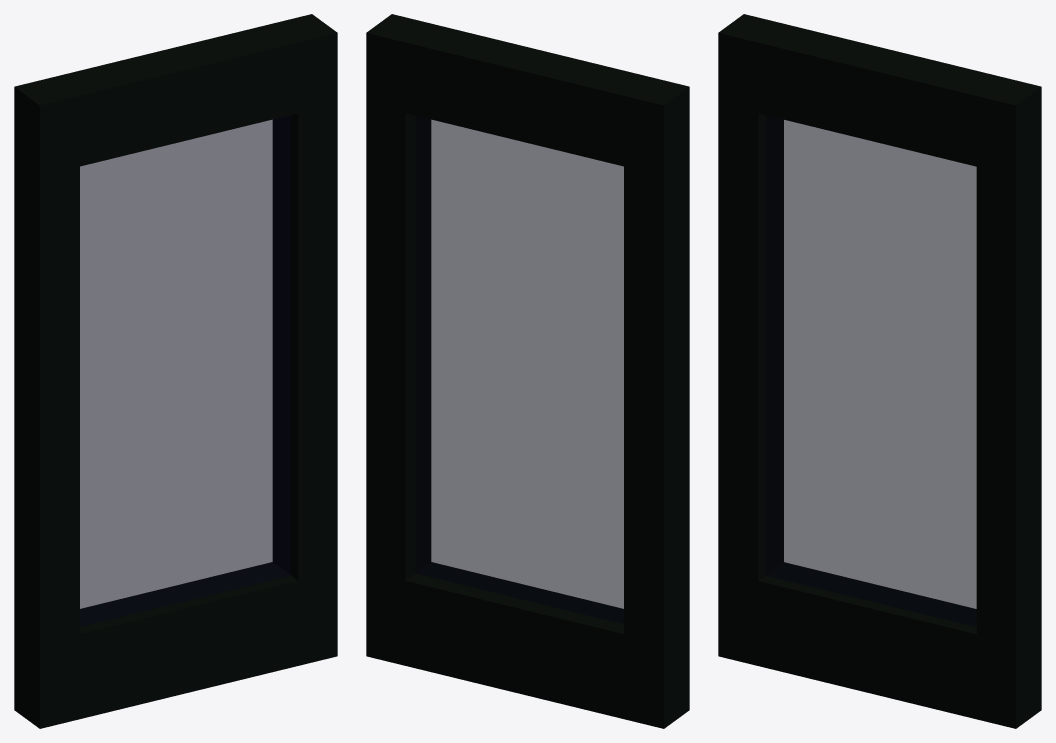
File: BlackWindowLarge.glb
The picture shows the model from 3 angles, left to right: view 1: azimuth 30°, elevation 25°; view 2: azimuth 150°, elevation 25°; view 3: azimuth 330°, elevation 25°; orthographic projection.
Visible parts, largest first — view 1: wall_largeWindow_black; view 2: wall_largeWindow_black; view 3: wall_largeWindow_black.
Part boxes in pixels (x1,y1,x2,y2): wall_largeWindow_black: [14, 14, 337, 728]; wall_largeWindow_black: [366, 14, 689, 728]; wall_largeWindow_black: [718, 14, 1041, 728].
Size of what is drawn, in the model's own units: 2 by 4 by 0.3.
Materials: 2 (2 with a texture image).
